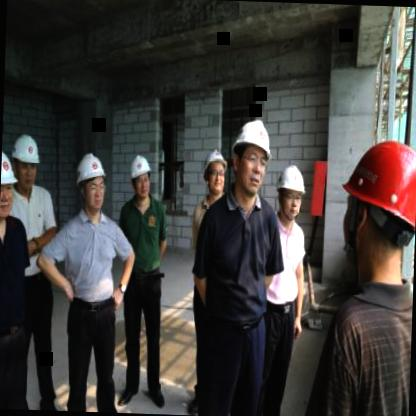helmet: (338, 133, 416, 290), (232, 115, 276, 201), (70, 151, 111, 214), (274, 160, 308, 224), (10, 129, 42, 188), (201, 147, 230, 203), (0, 147, 20, 220), (127, 152, 153, 202)
